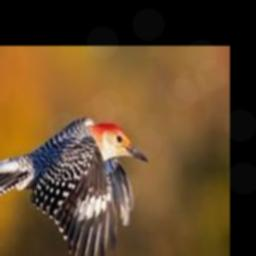Woodpecker: (0, 117, 149, 256)
